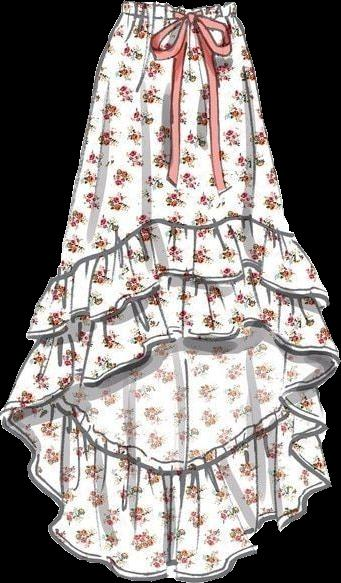Hemline: (0, 321, 340, 415), (25, 259, 331, 340)
Waistline: (48, 214, 293, 278), (116, 11, 239, 25), (121, 0, 236, 12)
